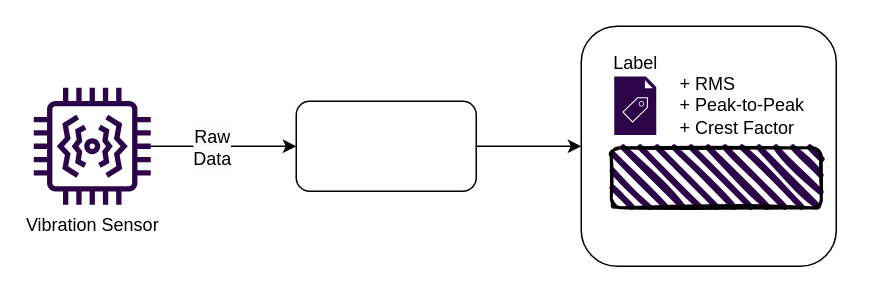
This 878x293 diagram has some shape labels left out. The shapes that lost their labels are listed below. From the top down, each one's box as (x1, y1, x2, y2) in pixels, then its label:
(295, 100, 476, 191): Pre-Processing
(609, 146, 822, 208): Binary Chunk
